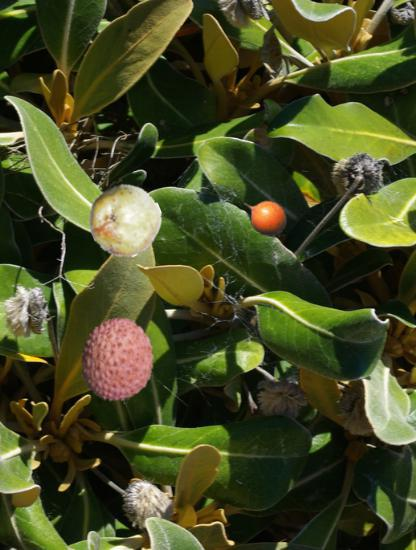Granadilla: (237, 190, 289, 242)
Lychee: (75, 317, 162, 404)
Pear: (89, 184, 163, 258)
